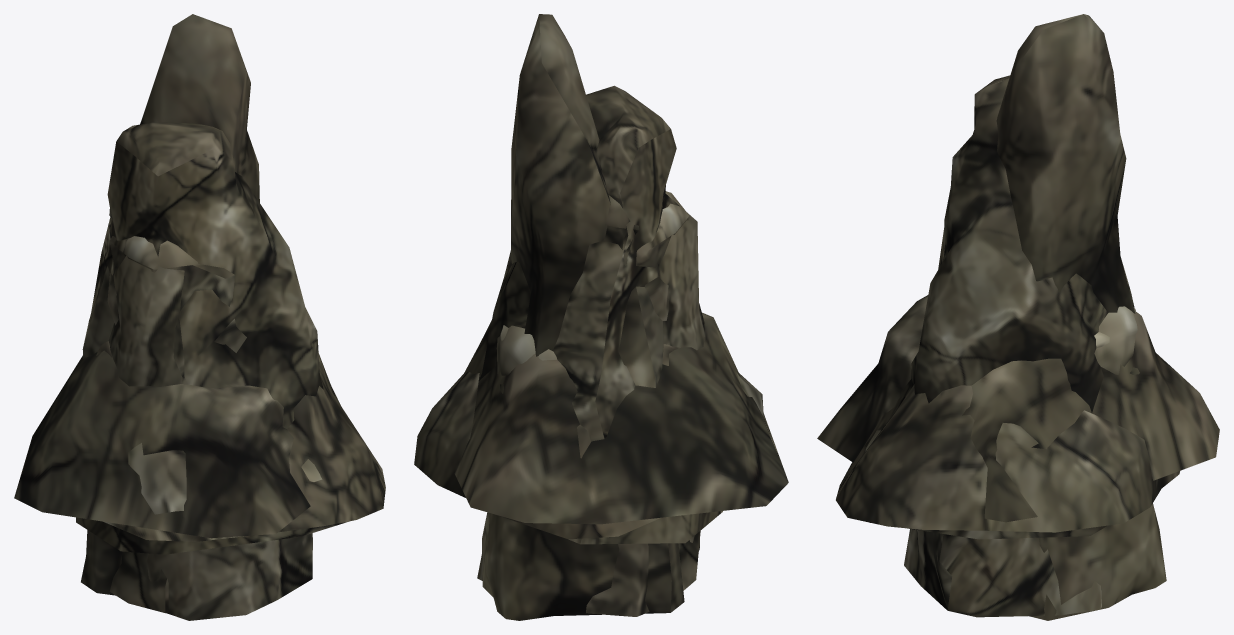
The model's file is Cliff_03_Stones.fbx.
The picture shows the model from 3 angles, left to right: view 1: azimuth 30°, elevation 25°; view 2: azimuth 150°, elevation 25°; view 3: azimuth 270°, elevation 25°; orthographic projection. The views are drawn at different scales.
Visible parts, largest first — view 1: CliffStone_03_08, CliffStone_03_06, CliffStone_03_03, CliffStone_03_04, CliffStone_03_07, CliffStone_03_05, CliffStone_03_02; view 2: CliffStone_03_06, CliffStone_03_04, CliffStone_03_08, CliffStone_03_07, CliffStone_03_02, CliffStone_03_03, CliffStone_03_05; view 3: CliffStone_03_04, CliffStone_03_07, CliffStone_03_08, CliffStone_03_06, CliffStone_03_03, CliffStone_03_05.
Part boxes in pixels (bbox=[...]): CliffStone_03_08: bbox=[76, 122, 349, 554]; CliffStone_03_06: bbox=[14, 350, 340, 538]; CliffStone_03_03: bbox=[107, 236, 312, 620]; CliffStone_03_04: bbox=[81, 14, 259, 595]; CliffStone_03_07: bbox=[103, 367, 385, 541]; CliffStone_03_05: bbox=[96, 341, 322, 514]; CliffStone_03_02: bbox=[107, 208, 168, 613]; CliffStone_03_06: bbox=[454, 312, 788, 524]; CliffStone_03_04: bbox=[482, 14, 684, 620]; CliffStone_03_08: bbox=[479, 85, 722, 544]; CliffStone_03_07: bbox=[414, 372, 660, 539]; CliffStone_03_02: bbox=[586, 195, 700, 616]; CliffStone_03_03: bbox=[477, 191, 699, 580]; CliffStone_03_05: bbox=[496, 325, 763, 416]; CliffStone_03_04: bbox=[996, 14, 1166, 620]; CliffStone_03_07: bbox=[836, 384, 1179, 532]; CliffStone_03_08: bbox=[870, 75, 1134, 539]; CliffStone_03_06: bbox=[817, 295, 1219, 522]; CliffStone_03_03: bbox=[904, 188, 1101, 617]; CliffStone_03_05: bbox=[865, 306, 1139, 451].
Size of what is drawn, in the model's own units: 257 by 413 by 263.
1 material, 1 textured.
